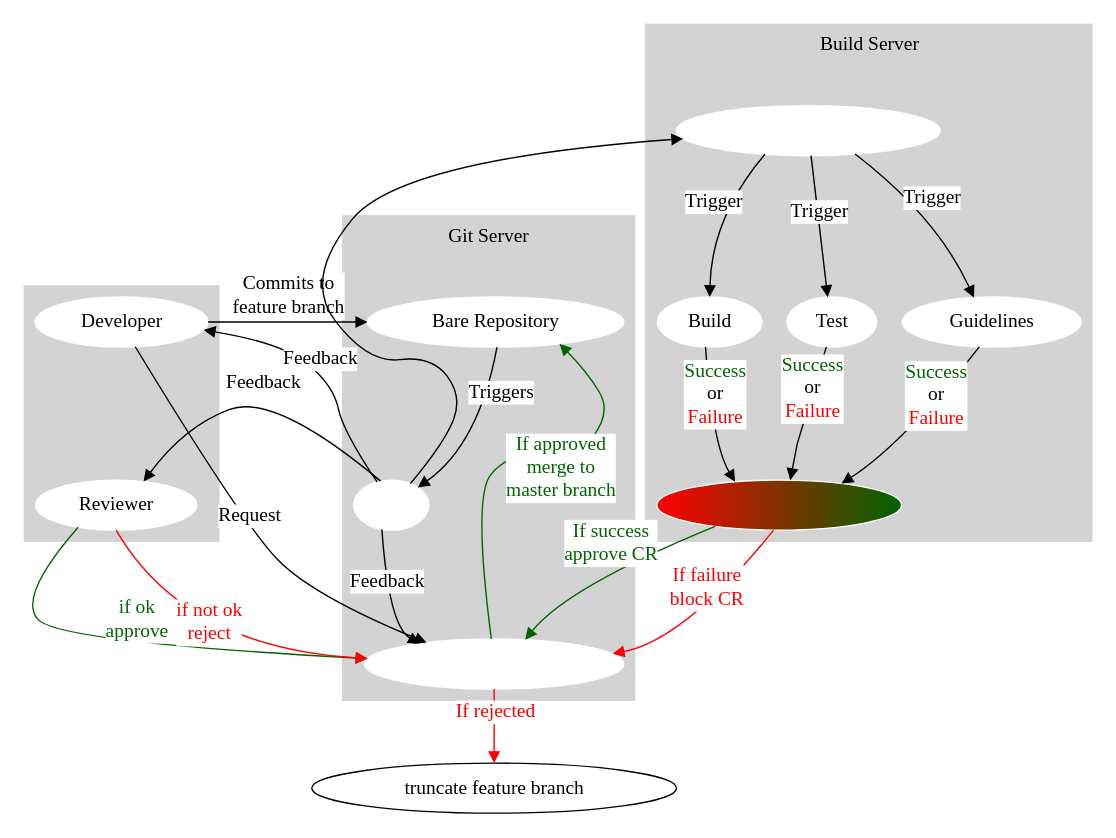
Some shapes in this 1116 by 838 pixel diagram are drawn without their labels. The shapes that lost their labels are listed below. From the top down, each one's centre as x and y in pixels, then its label:
(807,130): Local Repository
(390,504): CI
(778,504): Success Matrix
(493,663): Change Request
